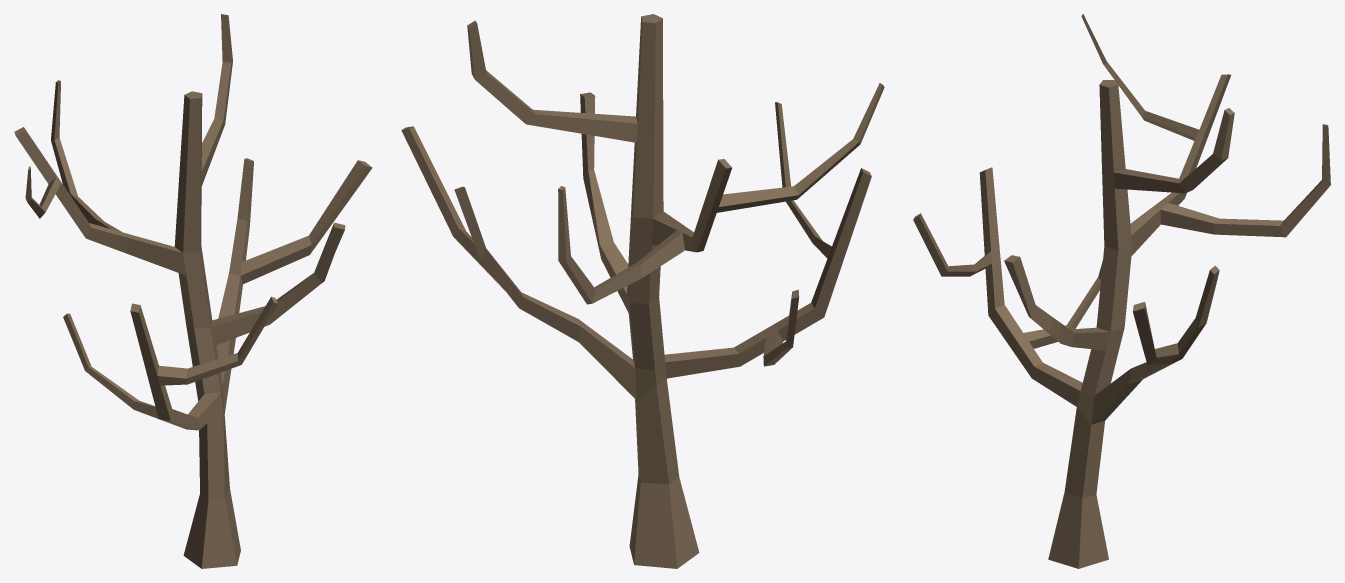
File: tree_bare_b_1.FBX
The picture shows the model from 3 angles, left to right: view 1: azimuth 30°, elevation 25°; view 2: azimuth 150°, elevation 25°; view 3: azimuth 270°, elevation 25°; orthographic projection. The views are drawn at different scales.
Visible parts, largest first — view 1: tree_bare_b_1; view 2: tree_bare_b_1; view 3: tree_bare_b_1.
Boxes of the visible parts, x1=… form: tree_bare_b_1: x1=14, y1=14, x2=372, y2=568; tree_bare_b_1: x1=401, y1=14, x2=884, y2=568; tree_bare_b_1: x1=913, y1=14, x2=1330, y2=568.
Bounding box in the file's own units: 4.9 × 5.97 × 4.64.
